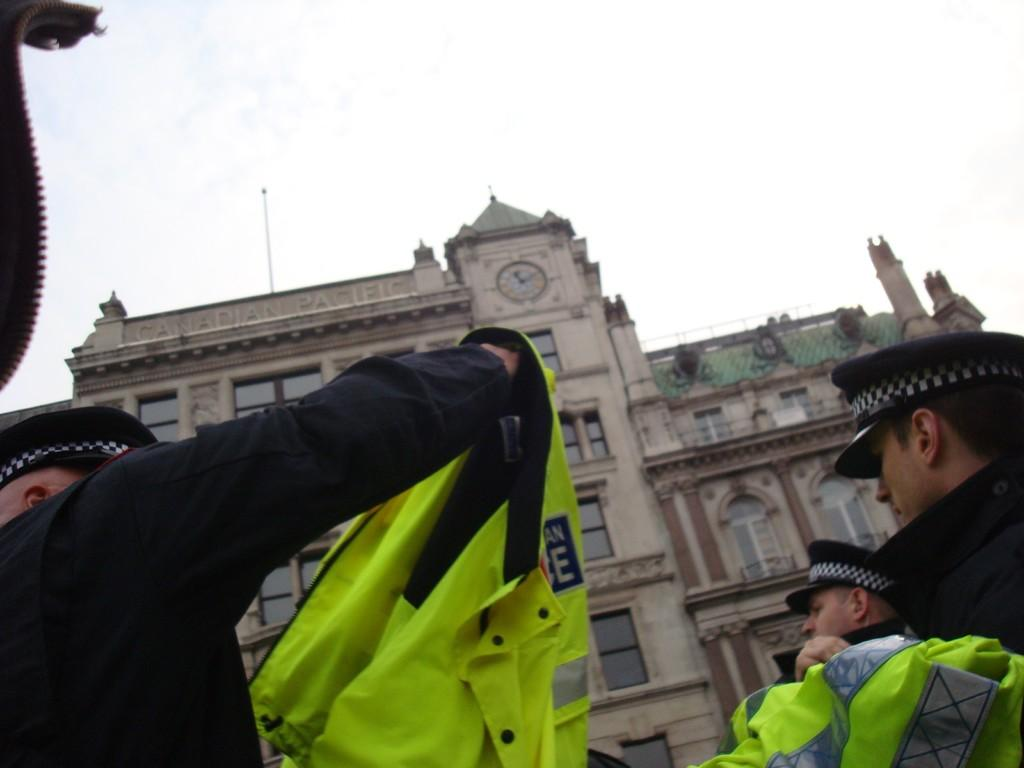Hat: (832, 333, 1022, 468), (0, 404, 158, 488), (785, 537, 903, 616)
